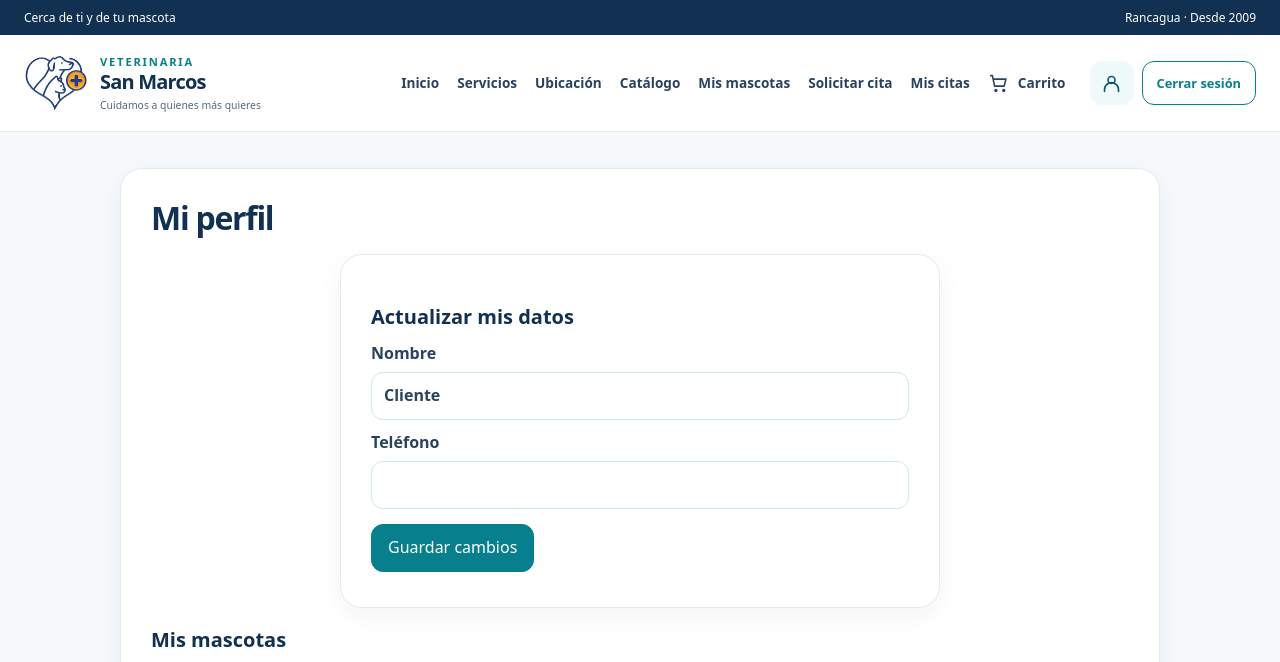
Test: Integración de navegación y sesión › conecta el header con el usuario y navega a servicios sin perder la sesión
This screenshot has width=1280, height=662.
Expected: the link named "Ver perfil de Cliente" is shown, [1090, 61, 1134, 105]
Click the link "Servicios" at (487,83), box [457, 73, 517, 92]
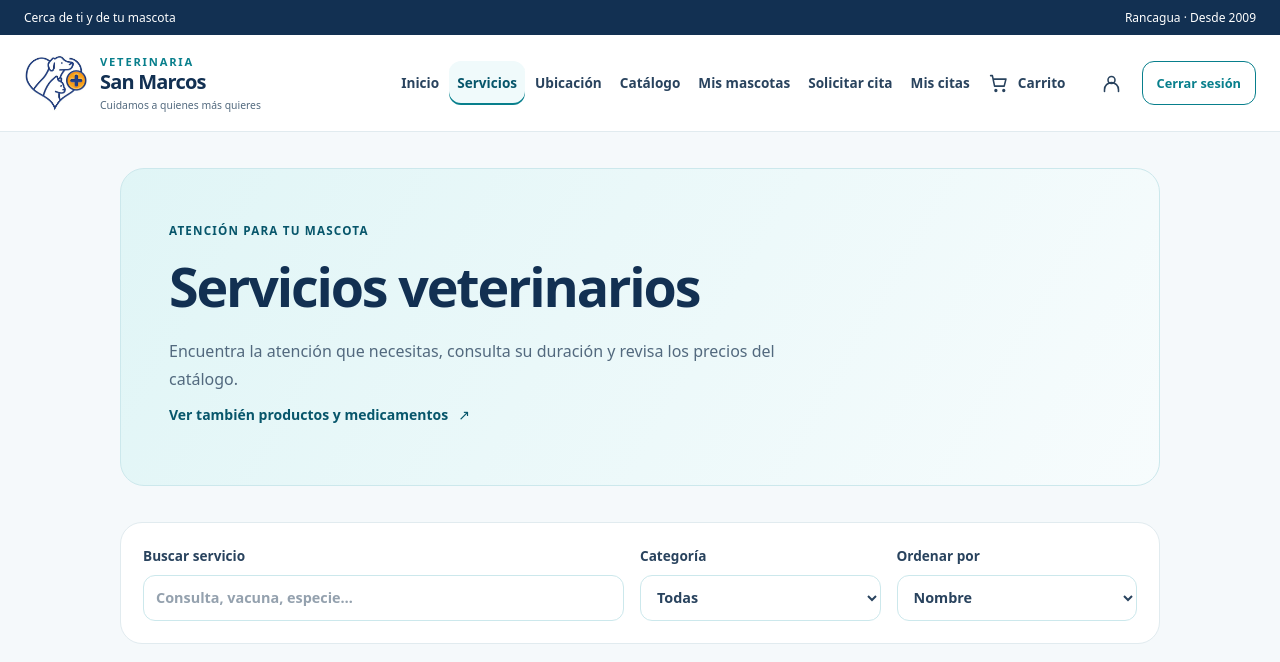
Now the heading "Servicios veterinarios" is shown, box [169, 250, 699, 323]
Click the button "Cerrar sesión" at (1199,83), box [1142, 61, 1256, 105]
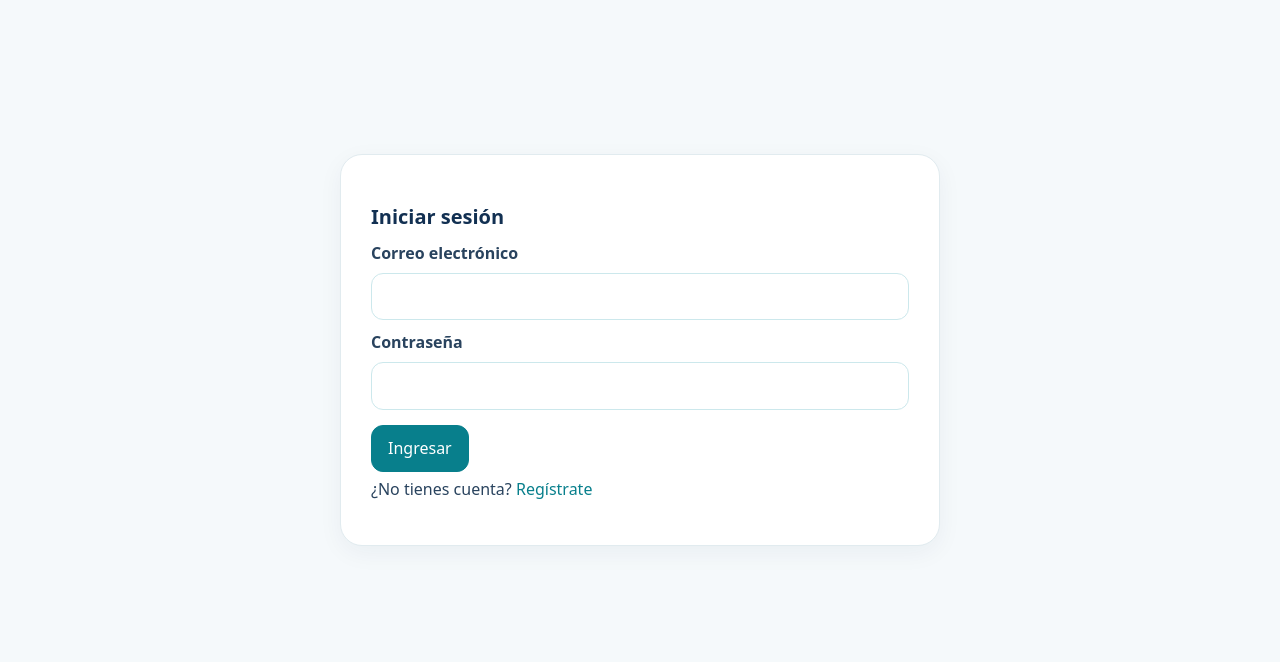
Now the heading "Iniciar sesión" is shown, box [371, 203, 504, 230]
